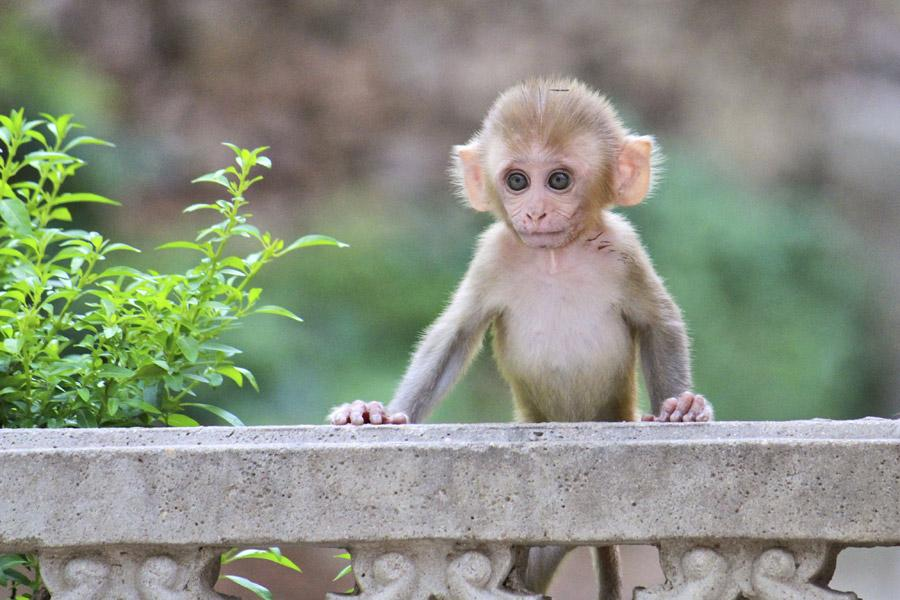Macaca fuscata: (339, 75, 716, 600)
